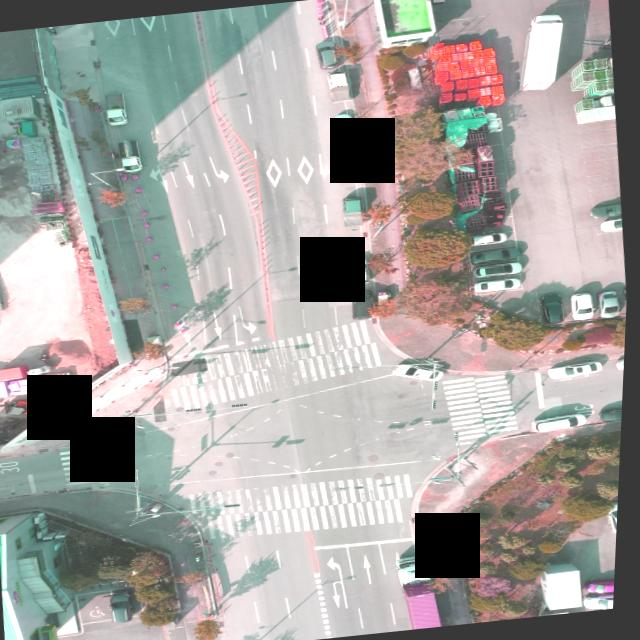car: (536, 412, 590, 432)
large_truck: (393, 555, 447, 631)
medium_truck: (511, 10, 574, 91)
small_truck: (322, 68, 353, 106), (113, 137, 144, 173), (100, 90, 129, 128), (340, 193, 370, 229)
